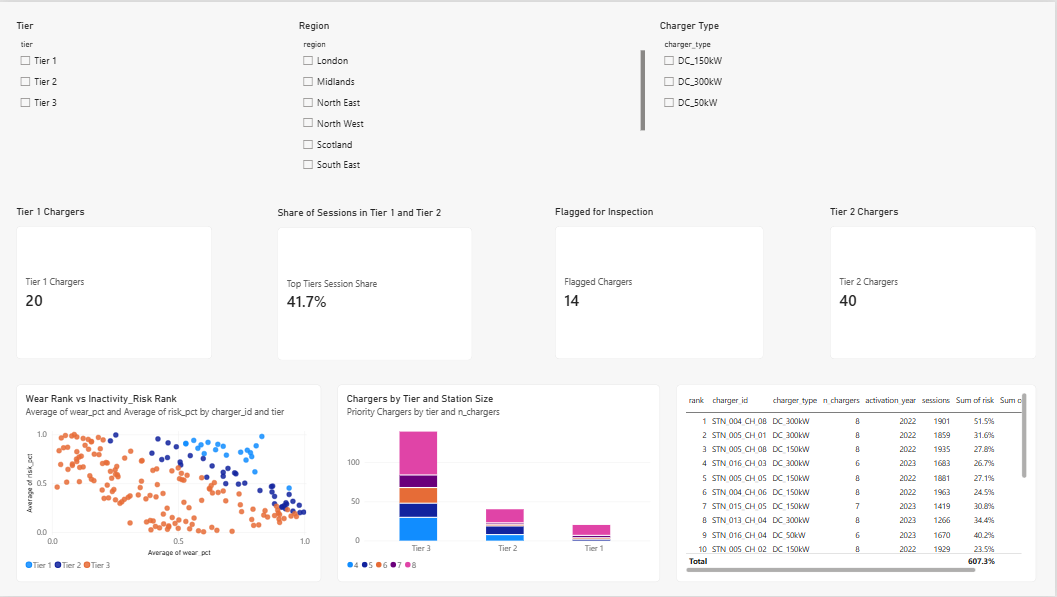

The page's visual inventory and layout, read from the dashboard file:
{"tool":"powerbi","page":{"name":"Maintenance_Priorities","canvas":[1920,1080],"ordinal":2},"visuals":[{"type":"slicer","title":"Tier","fields":{"Values":["maintenance_priority_list.tier"]},"box":[29.5,31.8,481.8,279.5],"z":0},{"type":"slicer","title":"Region","fields":{"Values":["maintenance_priority_list.region"]},"box":[543.2,31.8,629.5,279.5],"z":1},{"type":"slicer","title":"Charger Type","fields":{"Values":["maintenance_priority_list.charger_type"]},"box":[1200,31.8,684.1,279.5],"z":2},{"type":"cardVisual","title":"Tier 1 Chargers","fields":{"Data":["maintenance_priority_list.Tier 1 Chargers"]},"box":[29.5,370.5,356.8,279.5],"z":3},{"type":"cardVisual","title":"Tier 2 Chargers","fields":{"Data":["maintenance_priority_list.Tier 2 Chargers"]},"box":[1509.1,370.5,375,279.5],"z":4},{"type":"cardVisual","title":"Flagged for Inspection","fields":{"Data":["maintenance_priority_list.Flagged Chargers"]},"box":[1009.1,370.5,379.5,279.5],"z":5},{"type":"cardVisual","title":"Share of Sessions in Tier 1 and Tier 2","fields":{"Data":["maintenance_priority_list.Top Tiers Session Share"]},"box":[504.5,372.7,354.5,279.5],"z":6},{"type":"scatterChart","title":"Wear Rank vs Inactivity_Risk Rank","fields":{"Category":["maintenance_priority_list.charger_id"],"Series":["maintenance_priority_list.tier"],"X":["Avg(maintenance_priority_list.wear_pct)"],"Y":["Avg(maintenance_priority_list.risk_pct)"]},"box":[29.5,695.5,554.5,359.1],"z":7},{"type":"columnChart","title":"Chargers by Tier and Station Size","fields":{"Category":["maintenance_priority_list.tier"],"Series":["maintenance_priority_list.n_chargers"],"Y":["maintenance_priority_list.Priority Chargers"]},"box":[613.6,695.5,586.4,359.1],"z":8},{"type":"tableEx","fields":{"Values":["maintenance_priority_list.rank","maintenance_priority_list.charger_id","maintenance_priority_list.charger_type","maintenance_priority_list.n_chargers","maintenance_priority_list.activation_year","maintenance_priority_list.sessions","Sum(maintenance_priority_list.risk)","Sum(maintenance_priority_list.priority_score)"]},"box":[1229.5,695.5,654.5,359.1],"z":9}]}

Visuals, with their boxes in screenshot pixels (x1, y1, x2, y2), scaled from the page's 1920x1080 canvas onto the 1057x597 screenshot:
"Tier" slicer: box=[16, 18, 281, 172]
"Region" slicer: box=[299, 18, 646, 172]
"Charger Type" slicer: box=[661, 18, 1037, 172]
"Tier 1 Chargers" cardVisual: box=[16, 205, 213, 359]
"Tier 2 Chargers" cardVisual: box=[831, 205, 1037, 359]
"Flagged for Inspection" cardVisual: box=[556, 205, 764, 359]
"Share of Sessions in Tier 1 and Tier 2" cardVisual: box=[278, 206, 473, 361]
"Wear Rank vs Inactivity_Risk Rank" scatterChart: box=[16, 384, 322, 583]
"Chargers by Tier and Station Size" columnChart: box=[338, 384, 661, 583]
tableEx - maintenance_priority_list.rank x maintenance_priority_list.charger_id: box=[677, 384, 1037, 583]
